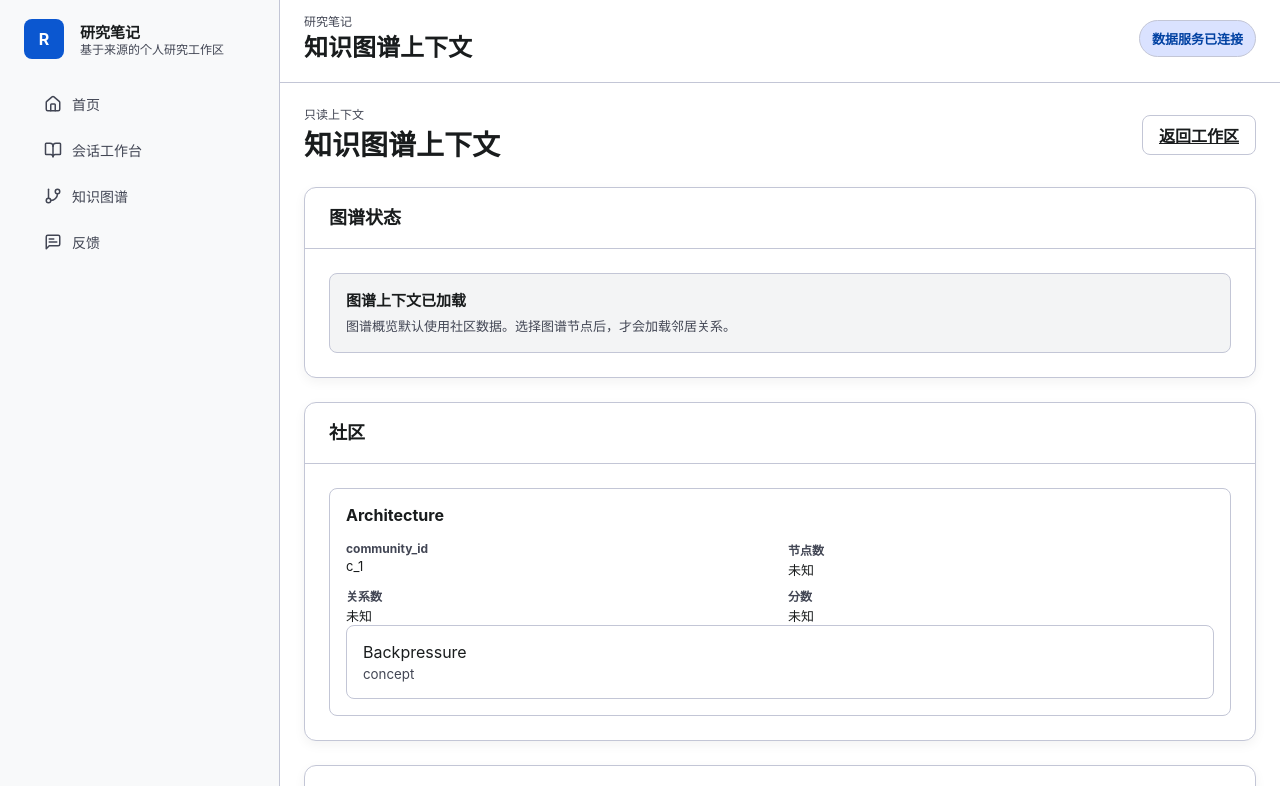
图谱上下文 smoke › selects graph node locally without mutation UI
Click the button "Backpressure concept" at (415, 652), box top-left (346, 625), bottom-right (1214, 699)
(page scrolled)
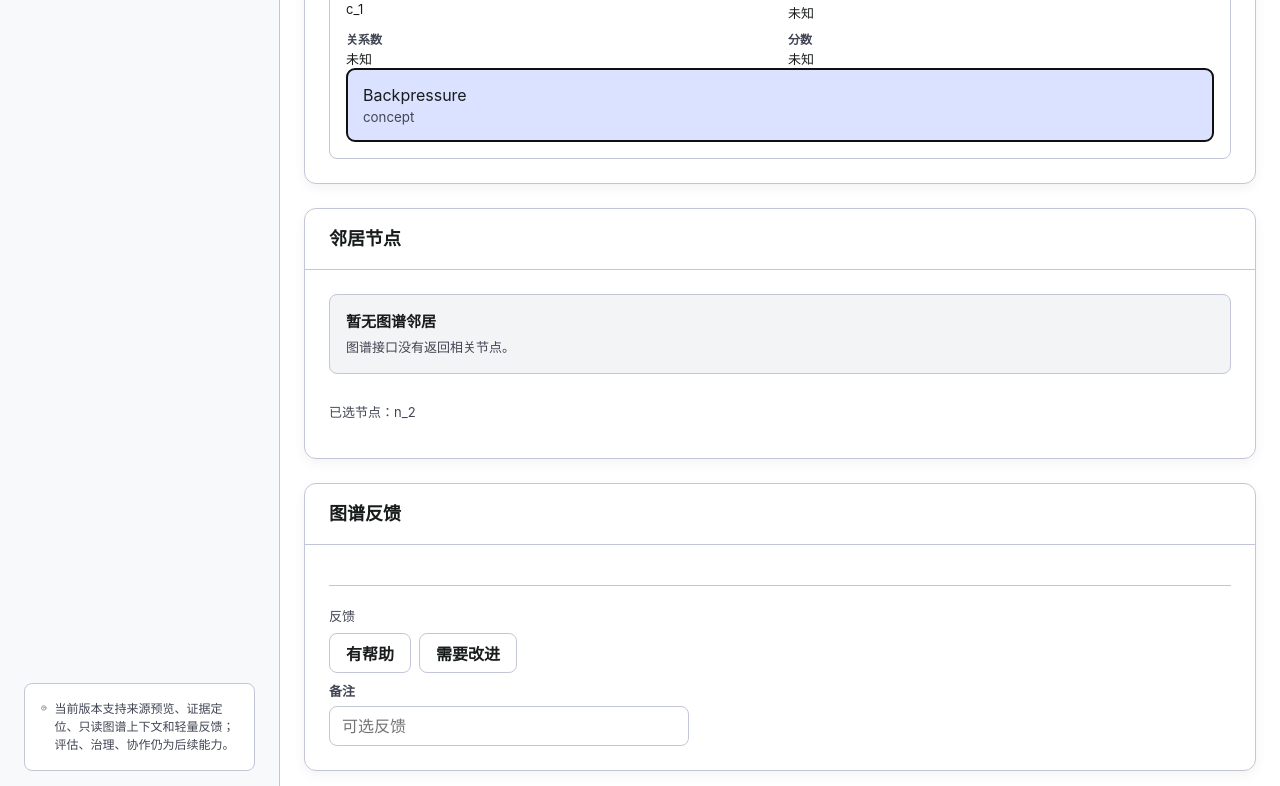
Now the text "已选节点：n_2" is shown, box top-left (329, 404), bottom-right (416, 420)
